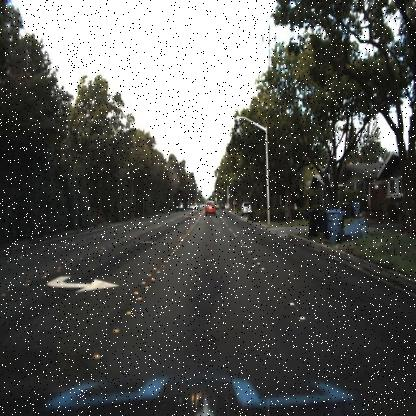car: (202, 196, 218, 218), (239, 197, 254, 219)
